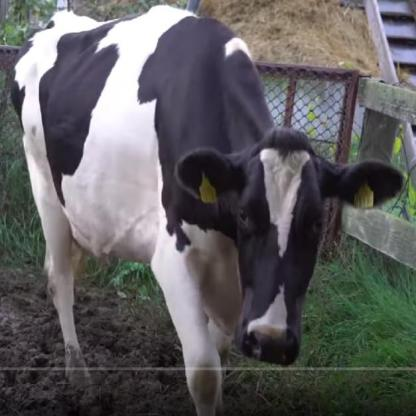cow: (13, 5, 402, 414)
